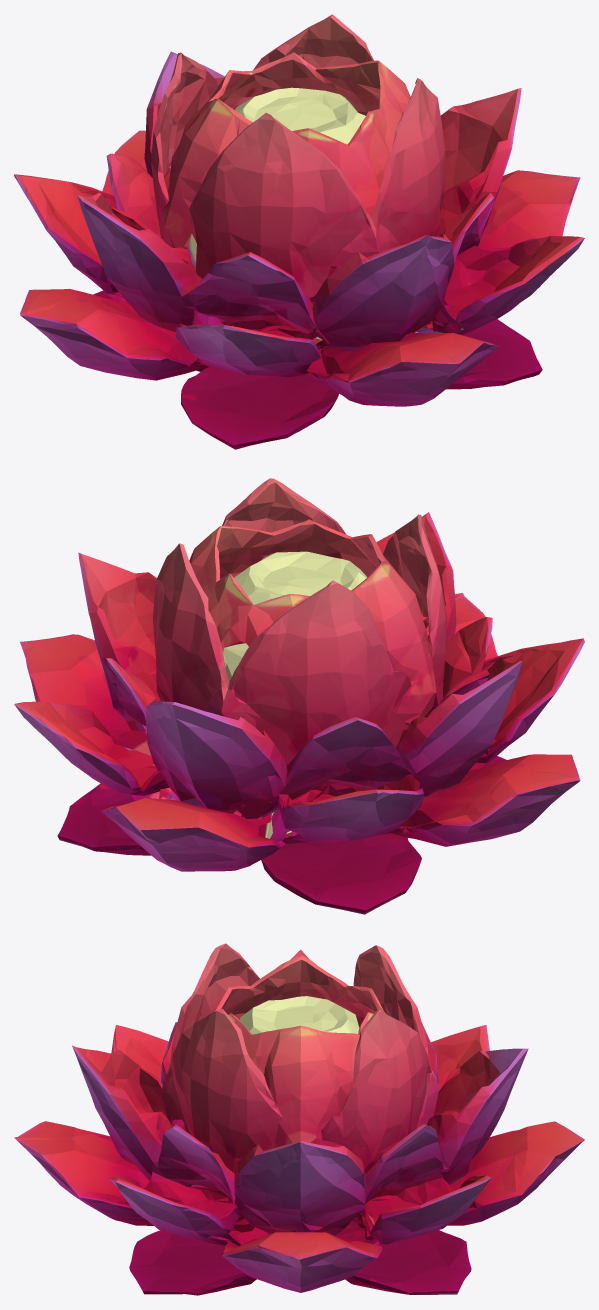
The model's file is pink-lotus.glb.
The picture shows the model from 3 angles, top to bottom: view 1: azimuth 30°, elevation 25°; view 2: azimuth 150°, elevation 25°; view 3: azimuth 270°, elevation 25°; orthographic projection. The views are drawn at different scales.
Visible parts, largest first — view 1: textured_mesh.obj; view 2: textured_mesh.obj; view 3: textured_mesh.obj.
Boxes of the visible parts, bbox=[...] form: textured_mesh.obj: bbox=[14, 14, 584, 449]; textured_mesh.obj: bbox=[14, 478, 584, 914]; textured_mesh.obj: bbox=[14, 943, 584, 1295].
Bounding box in the file's own units: 1.91 × 0.9252 × 1.9.
1 material, 1 textured.
